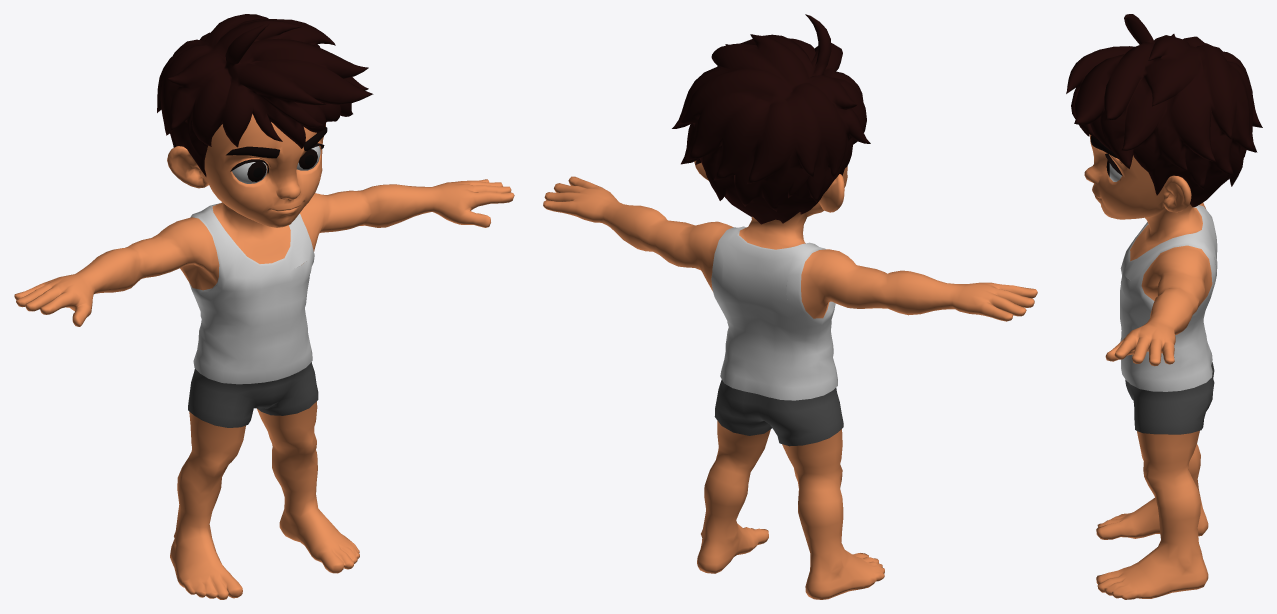
Rendered from T-Pose-M.fbx.
The picture shows the model from 3 angles, left to right: view 1: azimuth 30°, elevation 25°; view 2: azimuth 150°, elevation 25°; view 3: azimuth 270°, elevation 25°; orthographic projection. The views are drawn at different scales.
Visible parts, largest first — view 1: character_male_mesh_5, character_male_mesh_2, character_male_mesh_6, character_male_mesh_1, character_male_mesh; view 2: character_male_mesh_5, character_male_mesh_2, character_male_mesh_6, character_male_mesh_1; view 3: character_male_mesh_5, character_male_mesh_2, character_male_mesh_6, character_male_mesh_1, character_male_mesh.
Part boxes in pixels (x1,y1,x2,y2): character_male_mesh_5: [14, 114, 514, 599]; character_male_mesh_2: [157, 14, 373, 176]; character_male_mesh_6: [189, 203, 314, 384]; character_male_mesh_1: [188, 362, 318, 427]; character_male_mesh: [226, 127, 327, 181]; character_male_mesh_5: [543, 161, 1037, 599]; character_male_mesh_2: [672, 14, 870, 224]; character_male_mesh_6: [711, 226, 837, 400]; character_male_mesh_1: [714, 379, 843, 446]; character_male_mesh_5: [1084, 134, 1212, 599]; character_male_mesh_2: [1066, 14, 1262, 207]; character_male_mesh_6: [1120, 205, 1217, 391]; character_male_mesh_1: [1125, 362, 1214, 434]; character_male_mesh: [1090, 136, 1122, 176].
Size of the model in its own units: 124 by 135 by 44.38.
